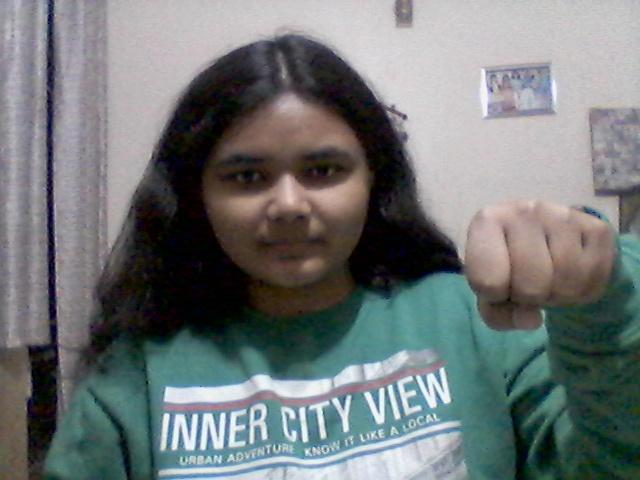yes: (460, 190, 622, 338)
